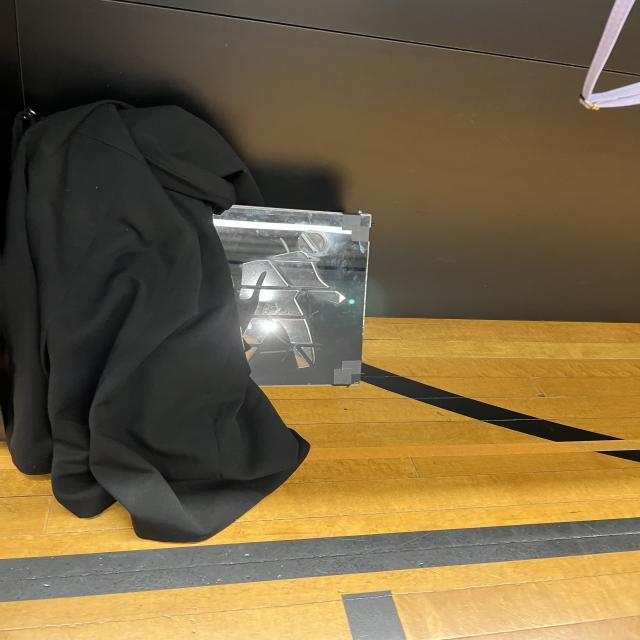go: (225, 209, 359, 388)
